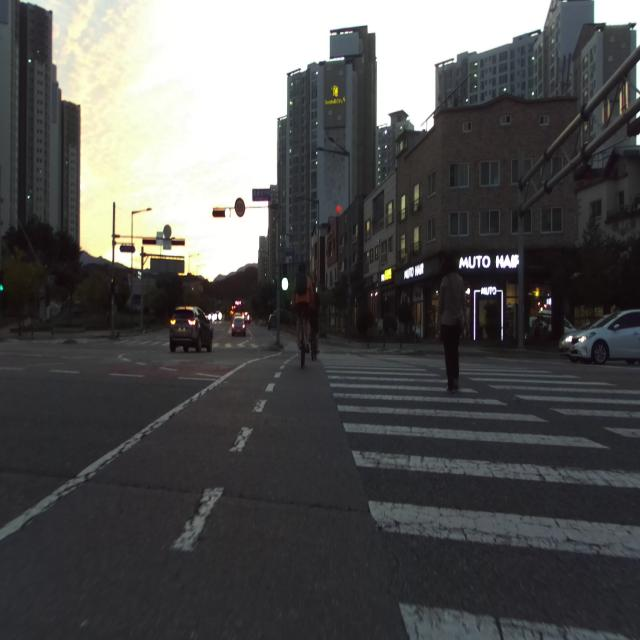횡단보도: (316, 353, 640, 640)
